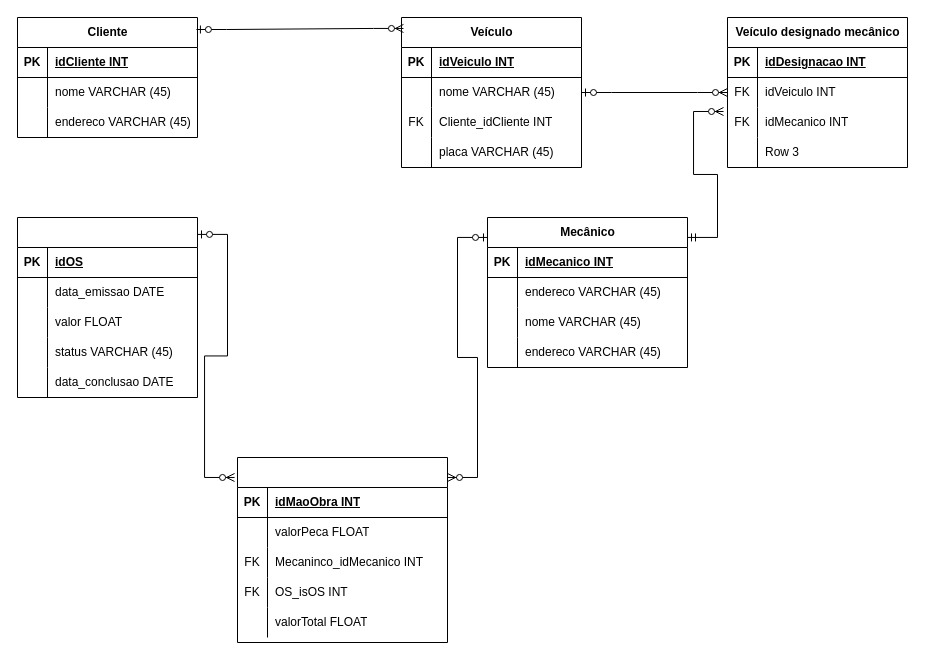
Image size: 925x660. Some labels were removed from this diagram. Each missing label, with the box of its shape:
Mão de obra: (236, 456, 448, 642)
OS: (16, 216, 198, 398)
